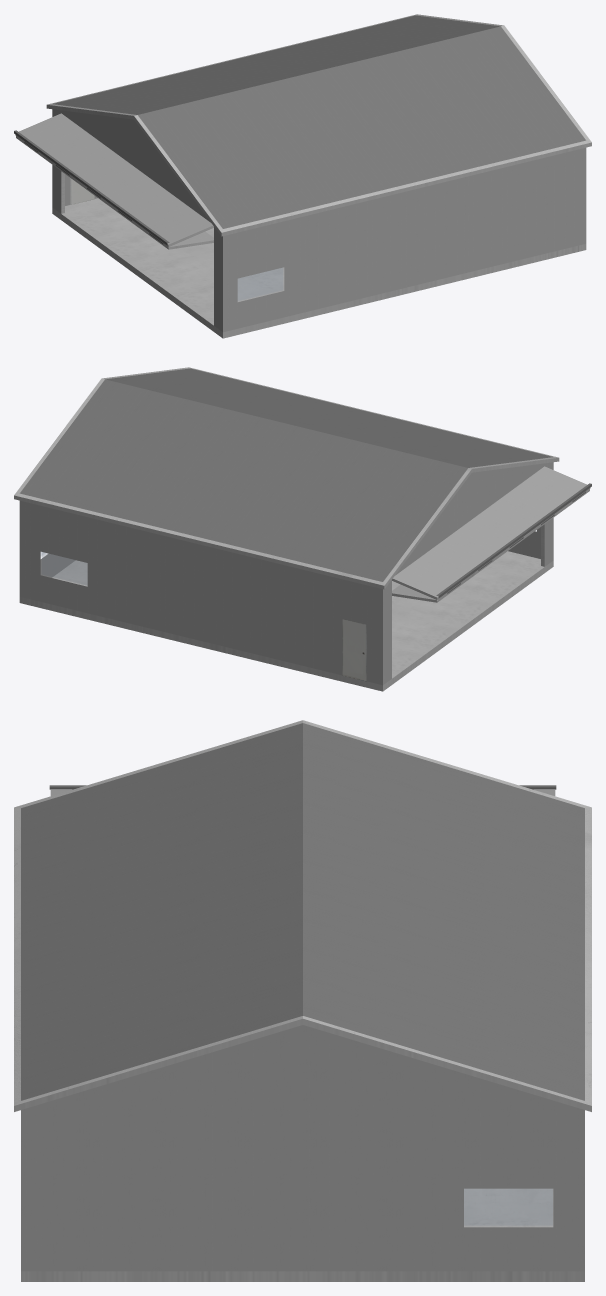
File: gen_open_hangar06-12x15x4-cbj_LOD03.gltf
3 views of the same model, one above another, from view 1: azimuth 30°, elevation 25°; view 2: azimuth 150°, elevation 25°; view 3: azimuth 270°, elevation 25° (orthographic). The views are drawn at different scales.
Parts seen in each view (by area): view 1: Cube.023; view 2: Cube.023; view 3: Cube.023.
Boxes of the visible parts, x1,y1,x2,y2 form: Cube.023: (14, 14, 591, 338); Cube.023: (14, 367, 591, 691); Cube.023: (14, 720, 591, 1281).
Size of the model in its own units: 17.2 by 6.4 by 12.6.
